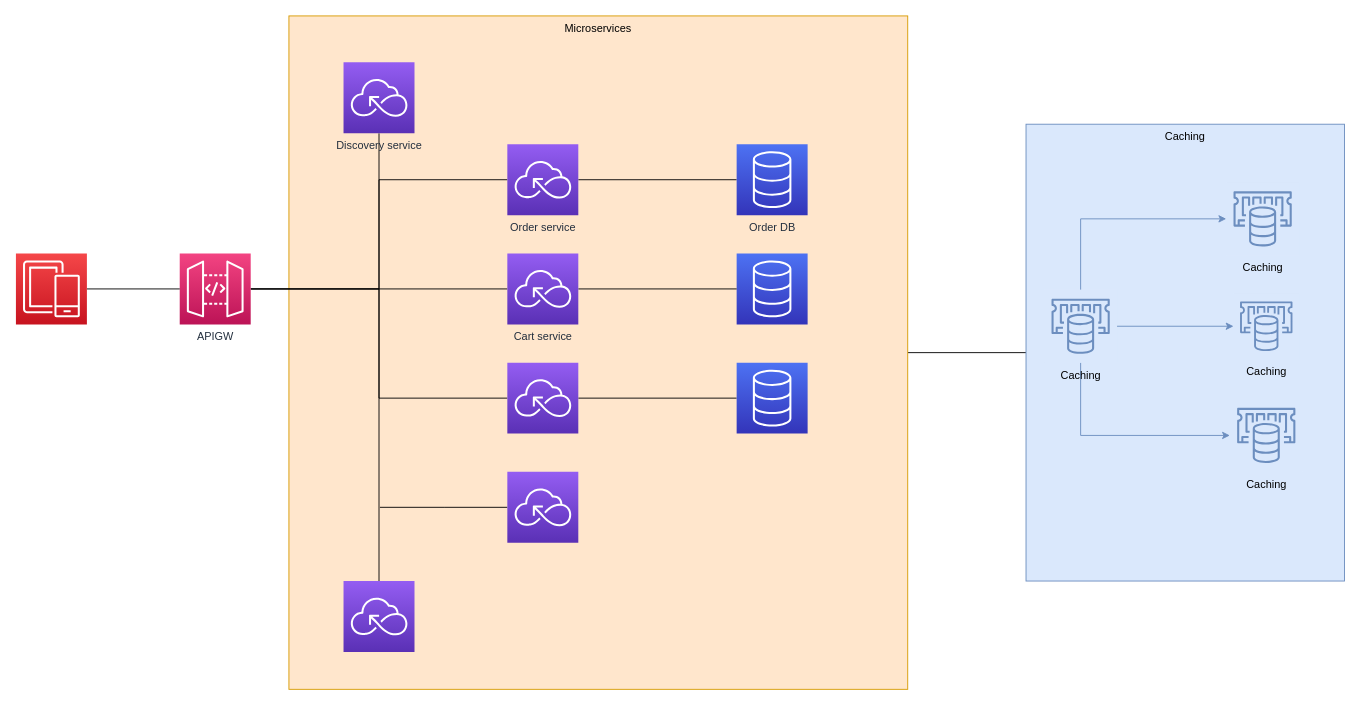
Image size: 1360x705. Some labels were removed from this diagram. The shapes that lost their labels are listed below. From the top down, each one's box as (x1, y1, x2, y2) in pixels, then its label:
(15, 253, 87, 324): Web/Mobile
(736, 253, 808, 324): Cart DB
(506, 362, 578, 434): Product service
(736, 362, 808, 434): Product DB
(506, 471, 578, 543): Distributed Tracing
(343, 580, 415, 652): Config Service
